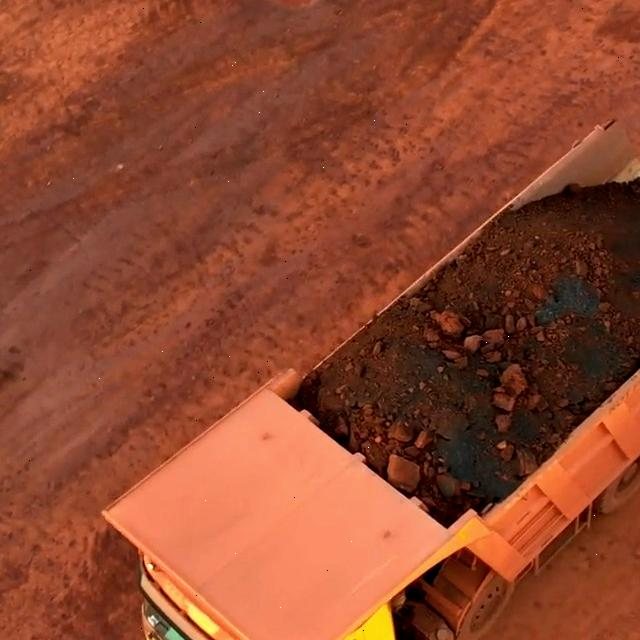Dumper truck: (135, 471, 460, 640)
